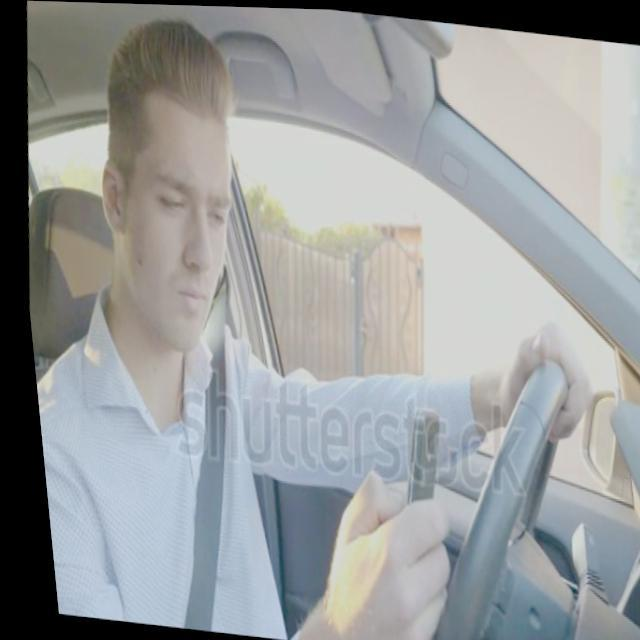PhoneCall: (384, 398, 444, 552)
